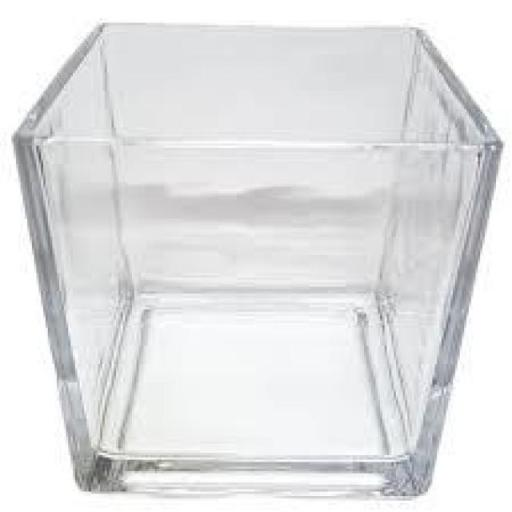glass: (1, 12, 512, 509)
